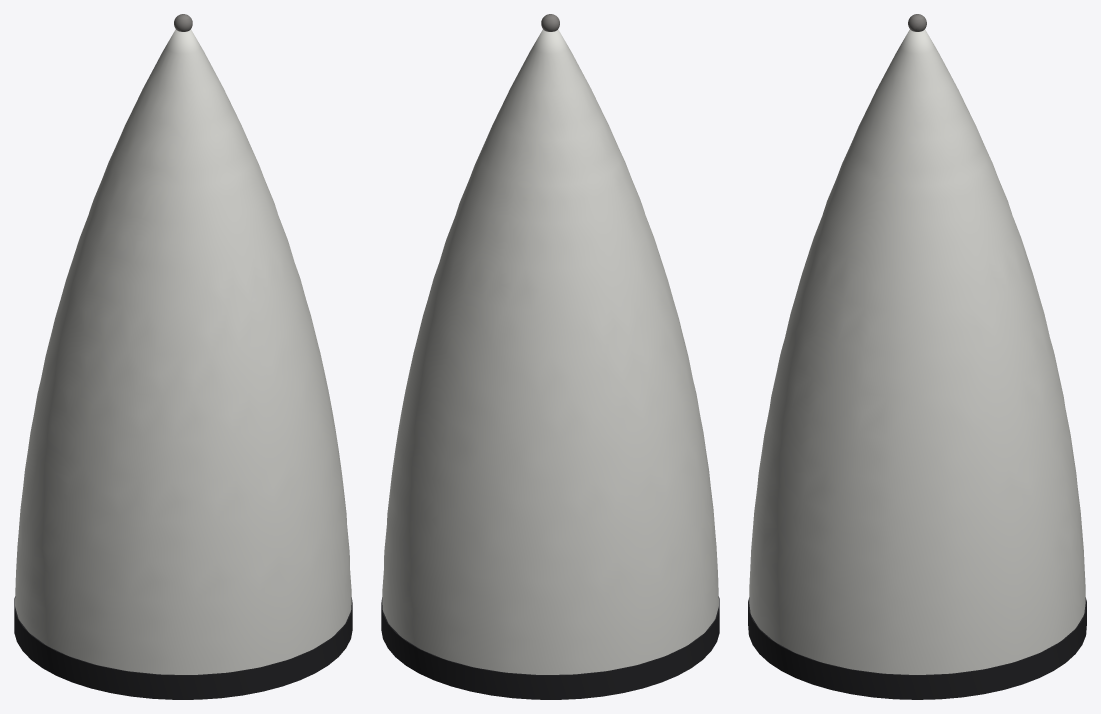
File: stage13_nose_cone_ogive_m.glb
The picture shows the model from 3 angles, left to right: view 1: azimuth 30°, elevation 25°; view 2: azimuth 150°, elevation 25°; view 3: azimuth 270°, elevation 25°; orthographic projection.
Visible parts, largest first — view 1: cone, base_ring; view 2: cone, base_ring; view 3: cone, base_ring.
Boxes of the visible parts, <box> form: cone: <box>15,29,351,674</box>; base_ring: <box>14,596,352,699</box>; cone: <box>382,29,718,674</box>; base_ring: <box>381,596,719,699</box>; cone: <box>749,29,1085,674</box>; base_ring: <box>748,597,1086,699</box>.
Size of the model in its own units: 2.51 by 5.01 by 2.51.
Materials: 3 (1 with a texture image).
